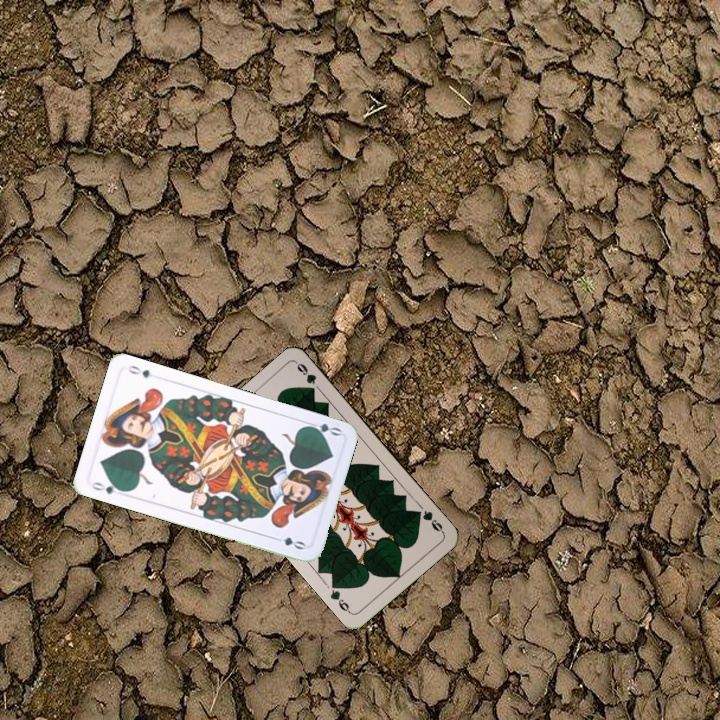G9: (411, 506, 446, 536)
GO: (302, 418, 344, 439), (88, 477, 128, 497)
